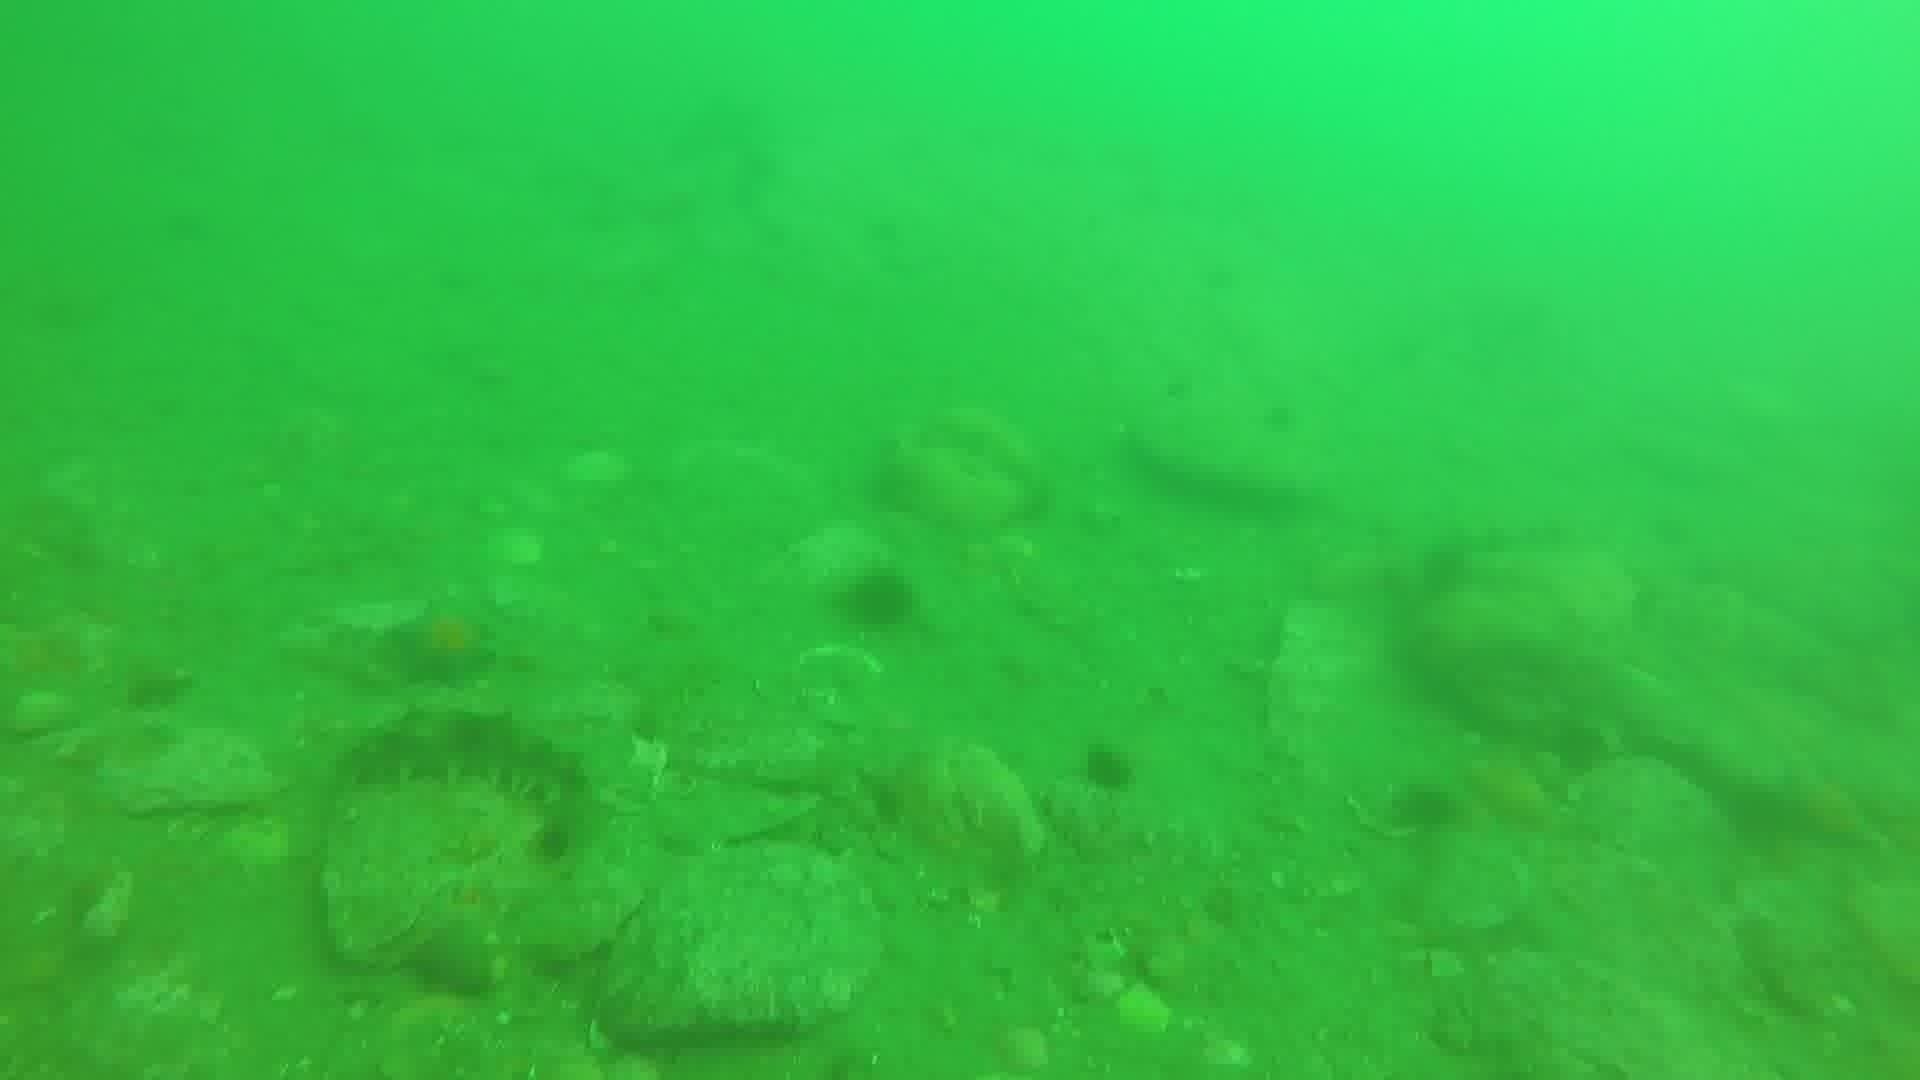echinus: (836, 564, 920, 636), (1386, 777, 1464, 841), (1543, 716, 1613, 781), (1075, 738, 1139, 798)
holothurian: (339, 705, 589, 808)
starfish: (1766, 761, 1888, 855), (382, 596, 502, 691)
